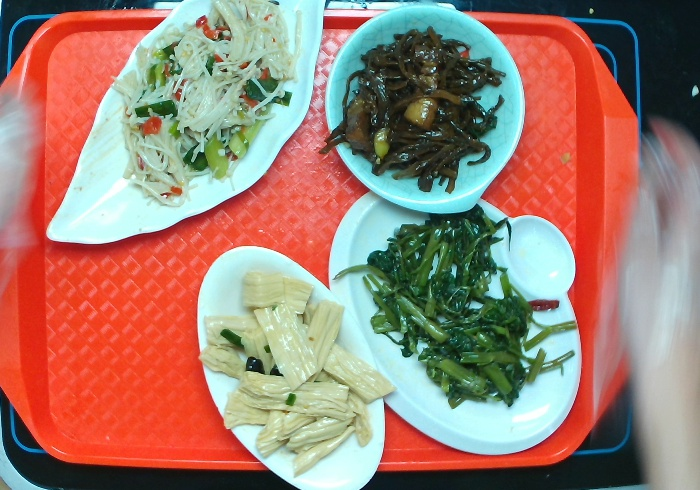RJxy-Bai_Se_Tuo_Yuan: (194, 238, 391, 484)
RJxy-Shu_Ye_Pan: (44, 1, 324, 254)
RJxy-Xiao_Jiao_Yuan_Wan: (319, 1, 533, 215)
RJxy-Zhan_Liao_Pan: (320, 187, 588, 459)
